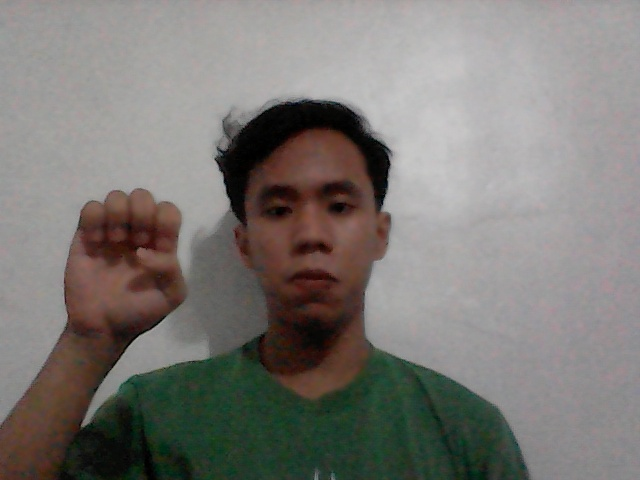E: (28, 169, 227, 360)
